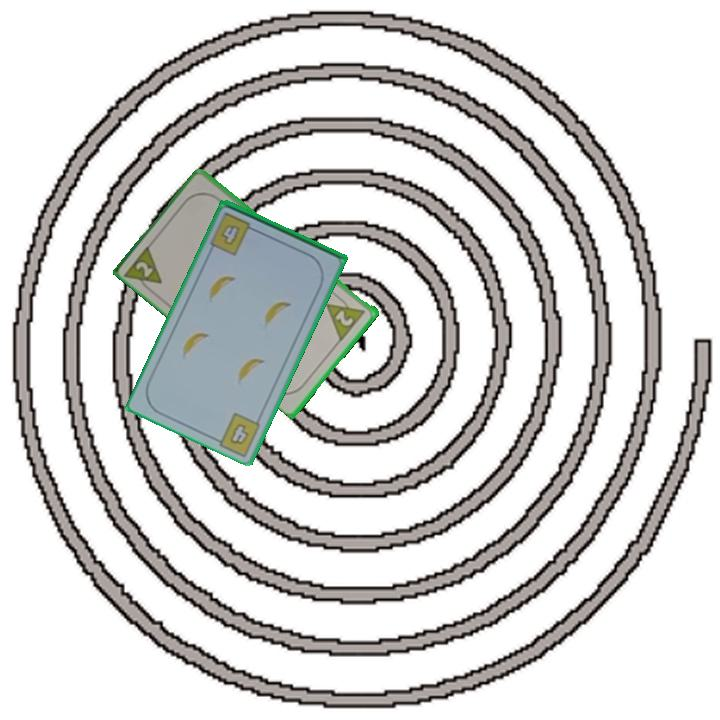2p: (122, 240, 166, 297), (323, 290, 369, 343)
4b: (209, 209, 261, 258), (226, 420, 252, 448)
